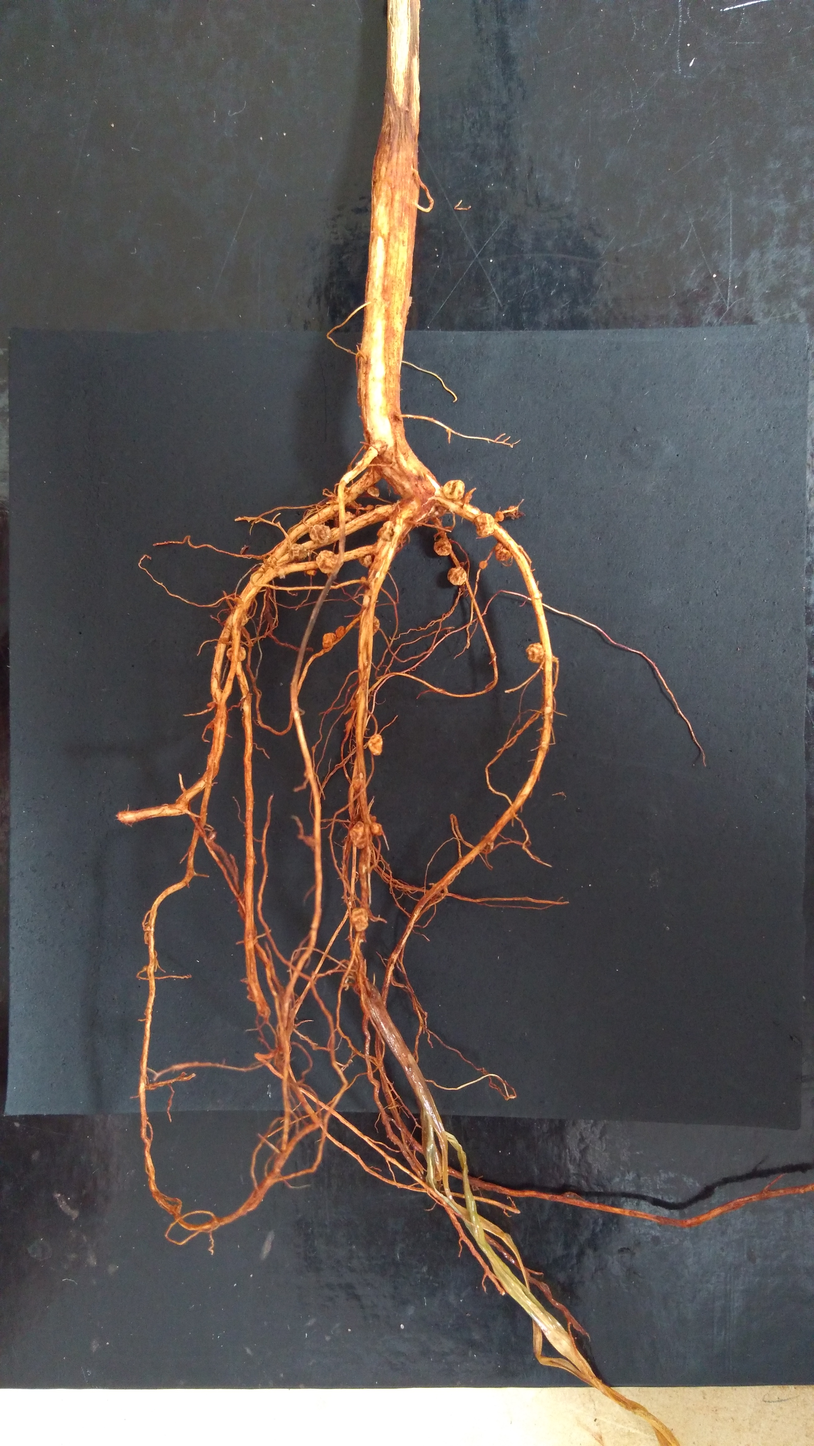nodule: (349, 820, 370, 850), (315, 549, 338, 573), (473, 512, 495, 537), (309, 524, 331, 546), (351, 907, 369, 933), (443, 480, 465, 500), (287, 543, 309, 563), (525, 642, 545, 664), (447, 567, 468, 586), (494, 540, 512, 562), (377, 520, 395, 541), (225, 646, 247, 662), (368, 733, 383, 756), (433, 538, 452, 556), (371, 436, 388, 456), (321, 632, 337, 649), (357, 553, 373, 568), (380, 447, 395, 463), (365, 485, 380, 499), (370, 822, 383, 837), (351, 778, 363, 793), (372, 615, 380, 637), (434, 505, 447, 518), (342, 510, 356, 522), (334, 625, 346, 638), (462, 490, 473, 504), (240, 612, 249, 627), (494, 511, 504, 522), (277, 568, 287, 579), (206, 700, 216, 709), (508, 505, 517, 514), (479, 560, 488, 569), (306, 568, 316, 576), (350, 699, 358, 708), (368, 814, 376, 823), (365, 504, 375, 511), (332, 504, 340, 512), (360, 576, 366, 582), (459, 562, 465, 566), (357, 504, 362, 508)
